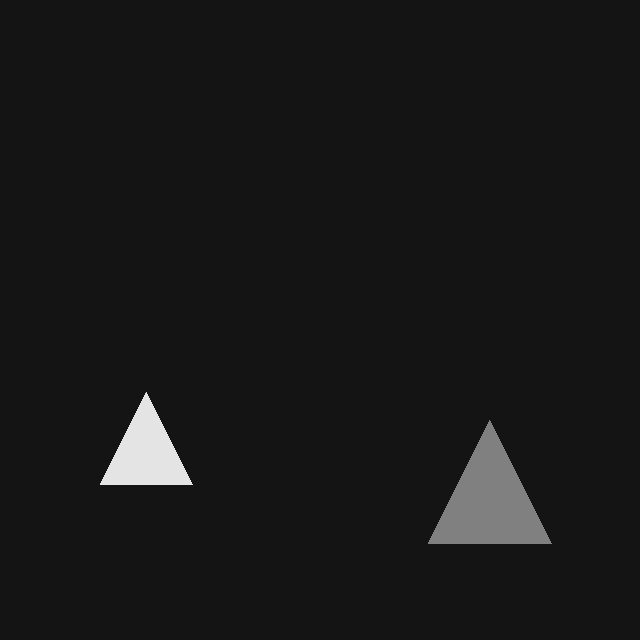triangle: (428, 420, 551, 543), (100, 392, 192, 484)
